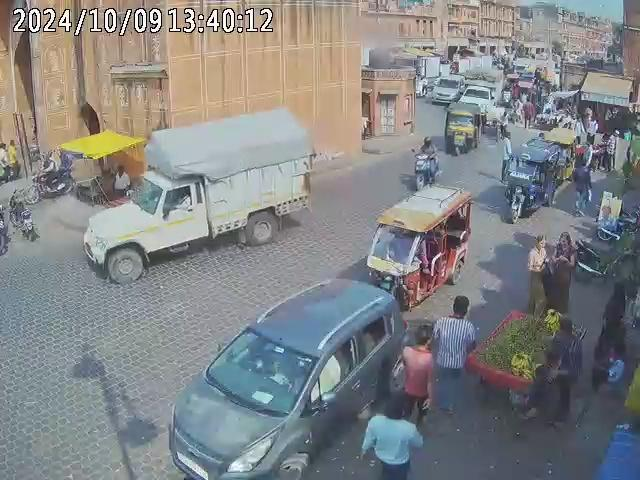auto: (364, 185, 475, 311), (501, 135, 568, 219), (443, 99, 485, 154)
car: (161, 274, 408, 479), (427, 75, 467, 105)
lorry: (82, 108, 318, 280)
motorbike: (0, 177, 37, 243)
person: (357, 394, 424, 479), (394, 329, 438, 425)
scooty-rider: (412, 136, 440, 189)
vendor: (470, 305, 580, 433)
